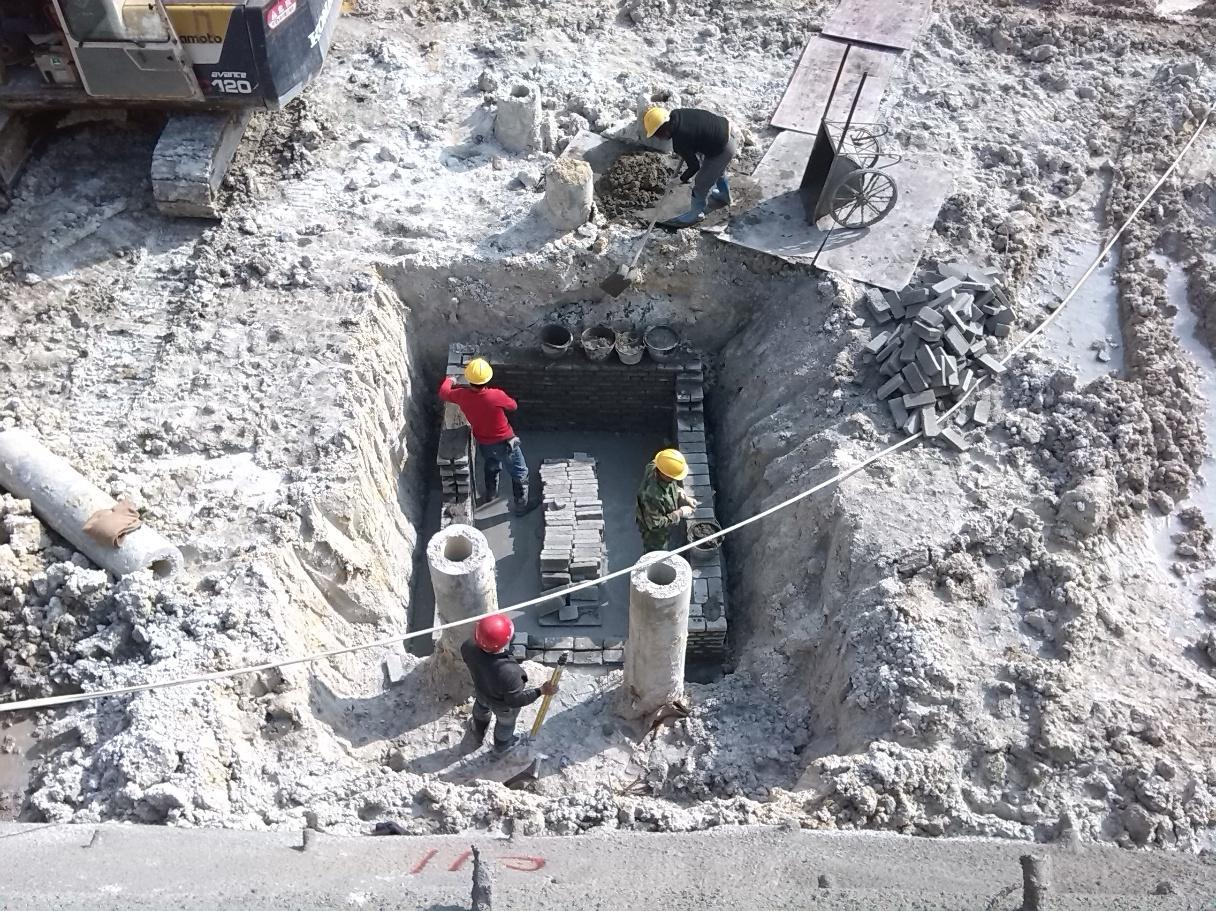gloves: (682, 164, 696, 198), (678, 505, 698, 524), (676, 484, 698, 501), (544, 675, 560, 696)
helmet: (476, 610, 518, 655), (656, 446, 691, 485), (461, 353, 493, 388), (641, 104, 670, 138)
no-vest: (463, 639, 528, 708), (458, 384, 513, 440), (683, 104, 724, 155), (645, 480, 678, 534)
person: (414, 342, 572, 525), (629, 79, 750, 228), (608, 429, 708, 603), (456, 590, 552, 764)
shoes: (497, 722, 530, 758), (673, 200, 709, 230), (468, 712, 490, 746), (707, 186, 746, 201), (515, 481, 536, 508), (486, 475, 505, 503)
